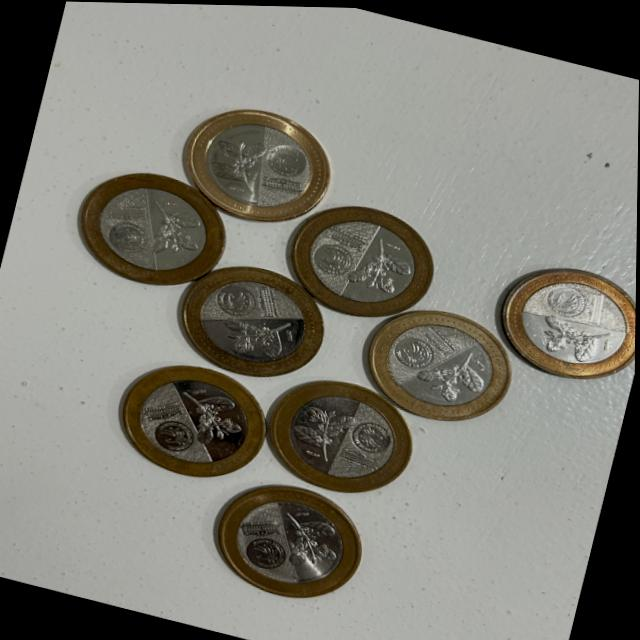20_New_Back: (272, 507, 346, 576), (138, 195, 211, 263), (172, 387, 247, 453), (345, 228, 415, 297), (418, 340, 491, 406), (219, 306, 298, 363), (291, 401, 359, 467), (535, 309, 615, 364), (204, 132, 271, 196)
